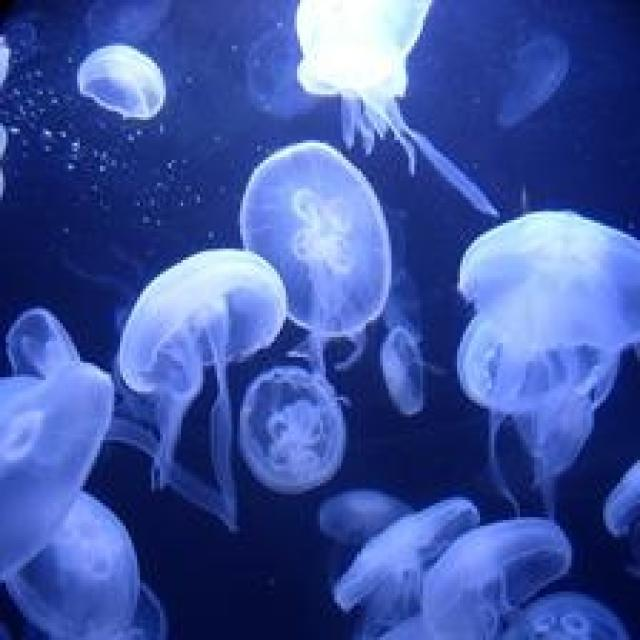Moon-jellyfish: (104, 229, 298, 498), (248, 134, 412, 359), (435, 198, 640, 366), (59, 27, 252, 165), (396, 522, 604, 631), (10, 488, 157, 633), (223, 336, 350, 494), (310, 490, 468, 617)
